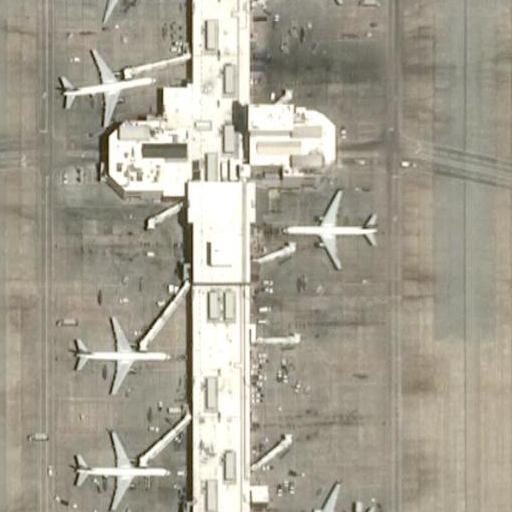Aircraft: (58, 421, 181, 512), (61, 313, 176, 393), (276, 182, 384, 264), (49, 43, 150, 128), (280, 481, 385, 512), (61, 0, 168, 20)
